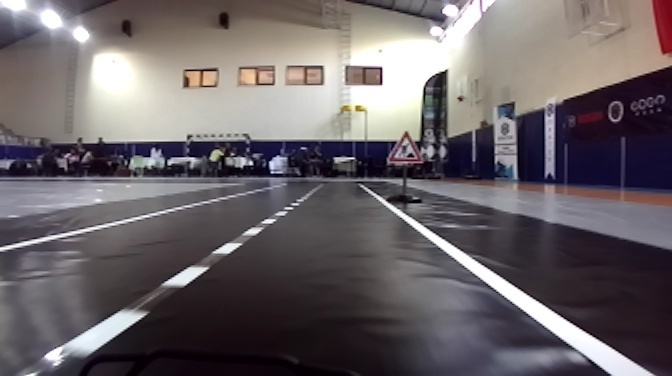yol_yapimi: (382, 130, 423, 163)
